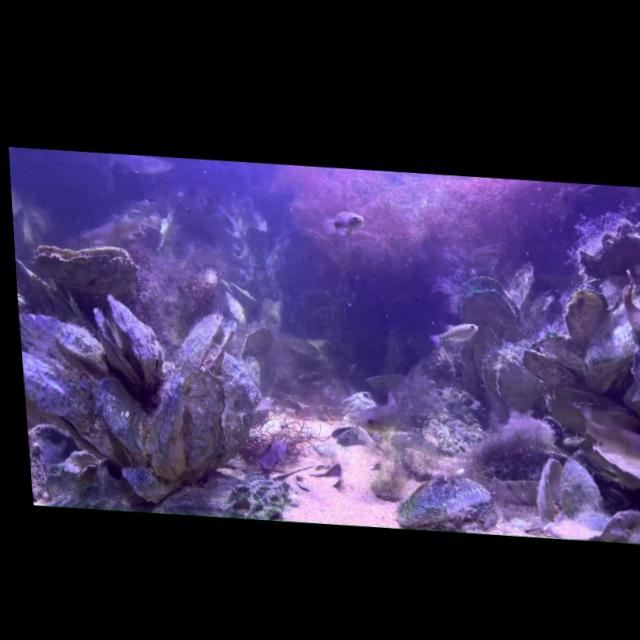Oyster-Closed: (577, 278, 640, 396), (141, 369, 191, 478), (178, 367, 229, 473), (32, 239, 139, 289), (548, 394, 640, 452), (15, 256, 79, 325), (560, 284, 612, 349), (590, 441, 640, 500)
Oyster-Indeterminate: (21, 349, 128, 468), (214, 351, 266, 459), (94, 374, 152, 468), (27, 421, 80, 500), (53, 320, 109, 379), (519, 346, 579, 391), (507, 259, 539, 313)
Oyster-Open: (90, 291, 166, 396), (533, 454, 605, 534), (173, 308, 242, 377), (453, 271, 509, 344), (98, 212, 163, 255), (330, 422, 365, 448)
